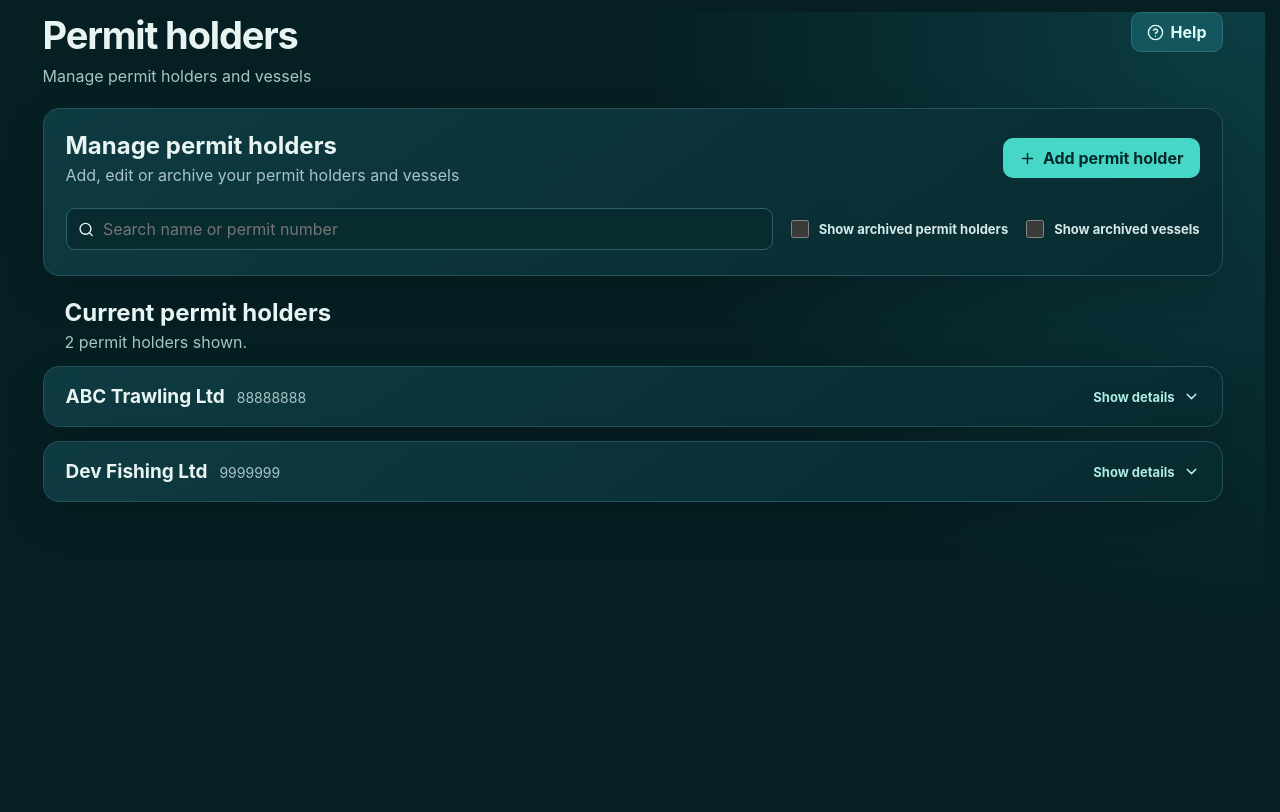
Permit holders › starts collapsed, expands details, and searches by permit number
The width and height of the screenshot is (1280, 812).
expect the text "ABC Trawling Ltd" is shown: met, box [66, 385, 225, 408]
expect the text "88888888" is shown: met, box [237, 389, 306, 406]
Click the heading named "Show or hide details for ABC Trawling Ltd" at x=145, y=396, box [66, 385, 1200, 408]
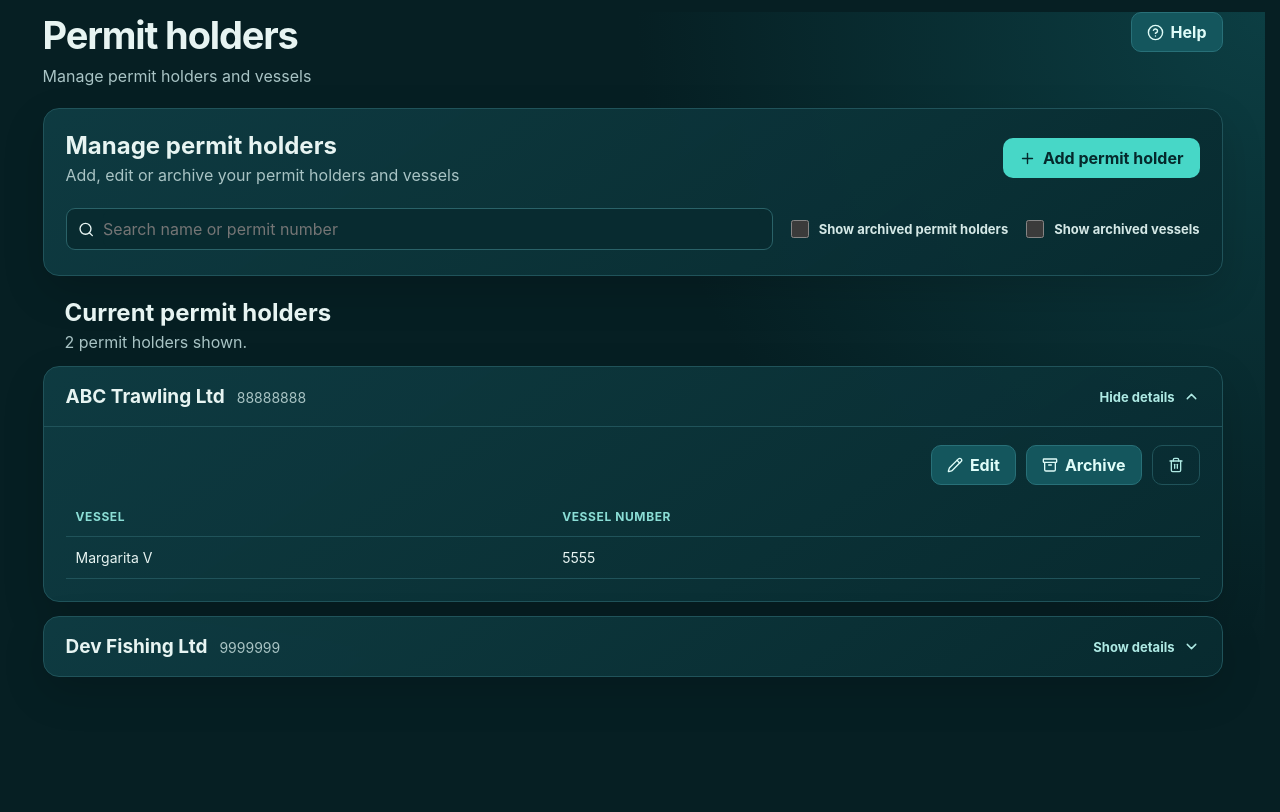
expect the text "Margarita V" is shown: met, box [66, 536, 552, 578]
expect the button with aria-label "Edit ABC Trawling Ltd" is shown: met, box [931, 445, 1016, 485]
Type "9999999" into the field named "Search permit holders" at x=432, y=229, box [103, 209, 761, 249]
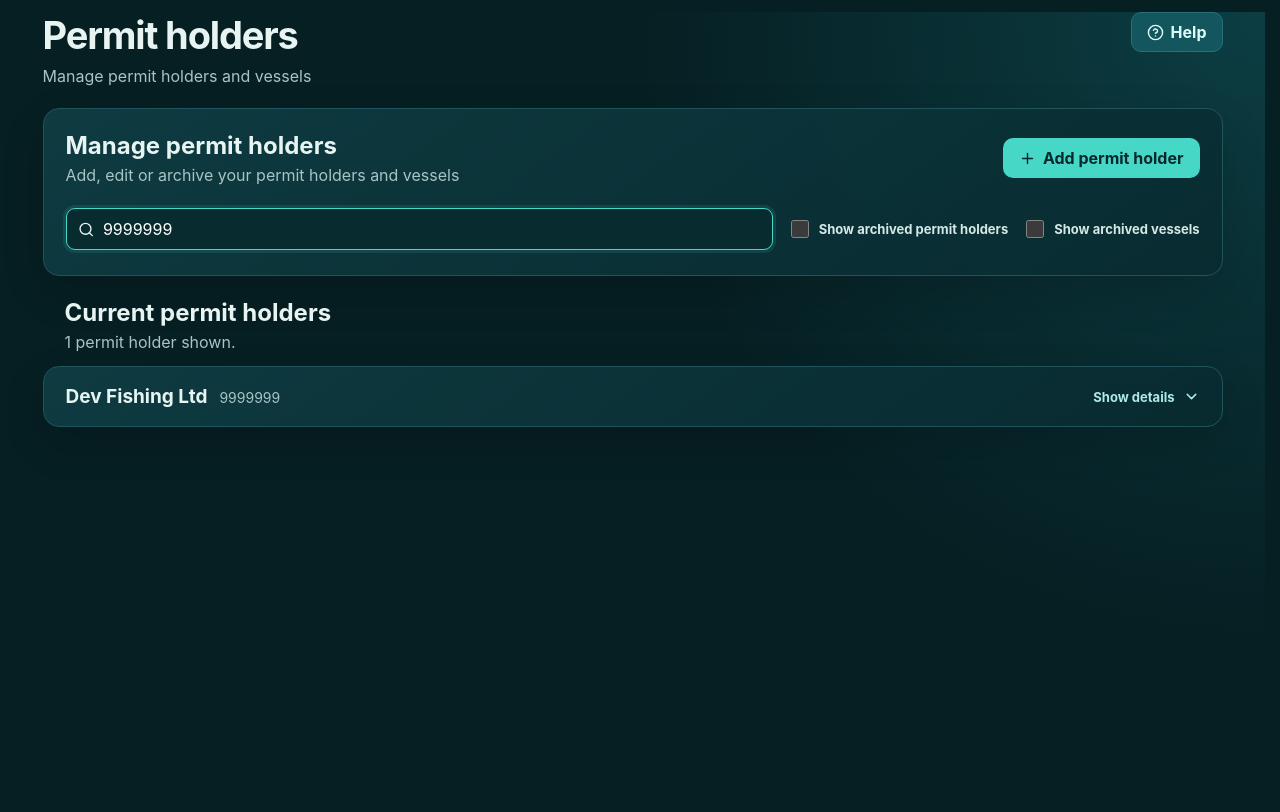
expect the text "Dev Fishing Ltd" is shown: met, box [66, 385, 207, 408]
expect the heading "ABC Trawling Ltd" is gone: met
